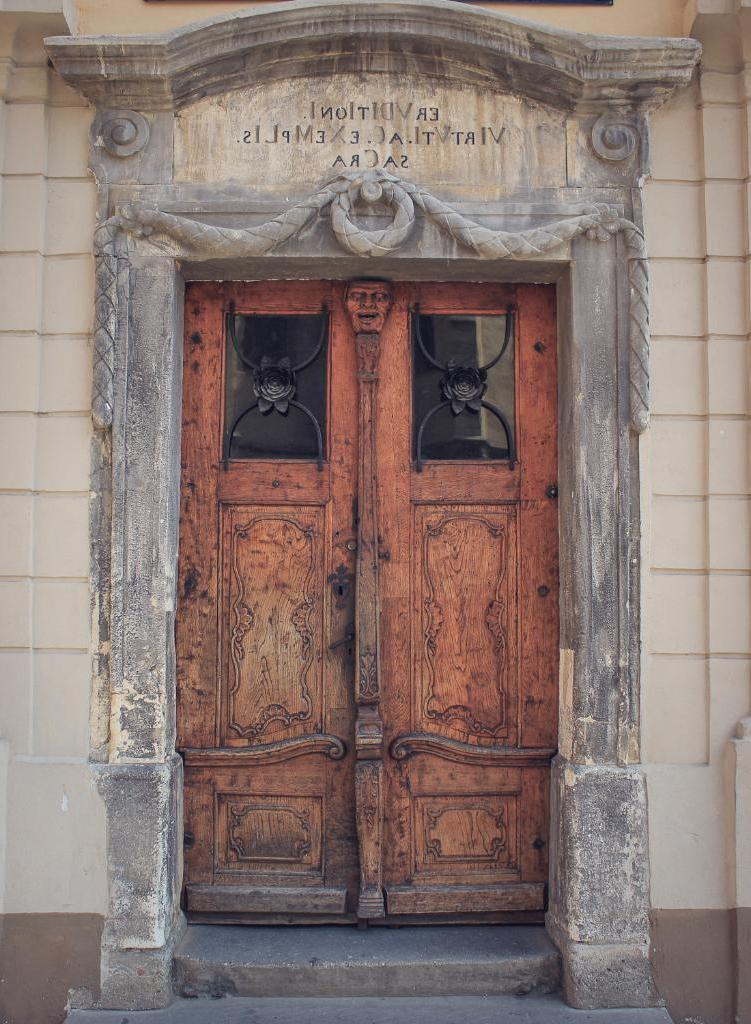door: (379, 286, 551, 912), (180, 300, 352, 917)
handle: (326, 620, 355, 668)
